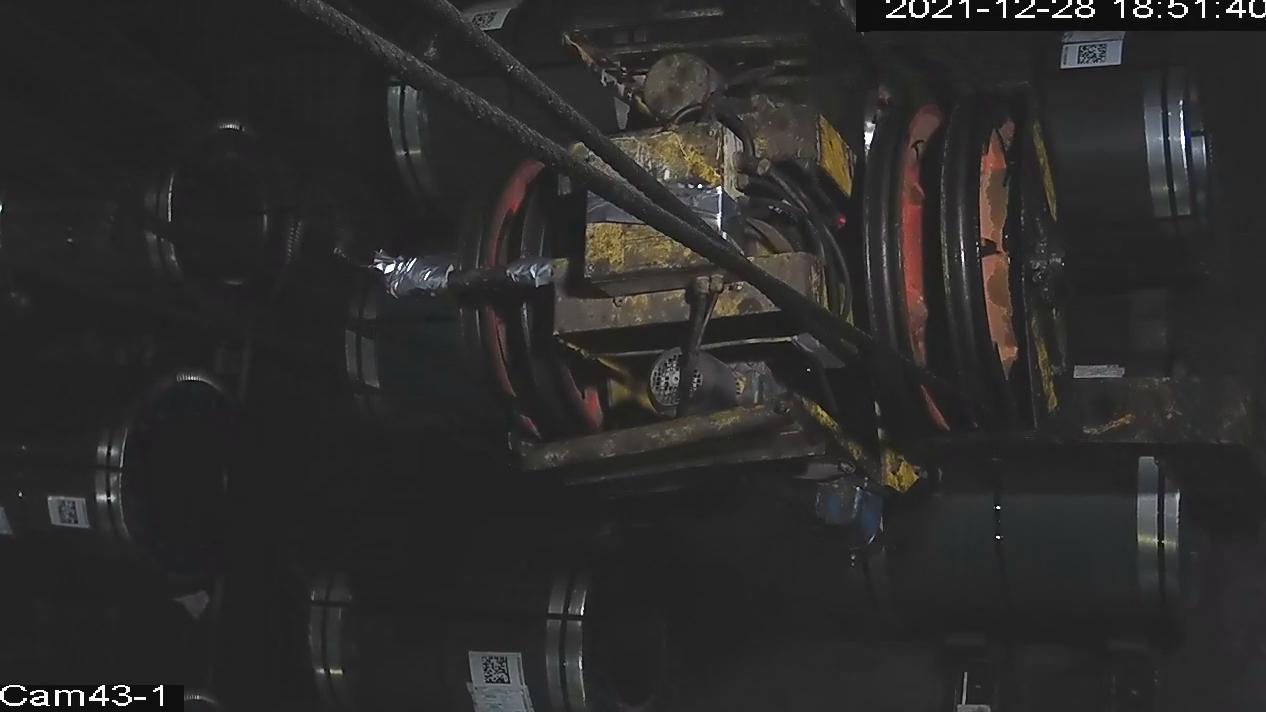data matrix: (480, 653, 513, 687), (1076, 42, 1111, 68), (56, 498, 82, 528)
